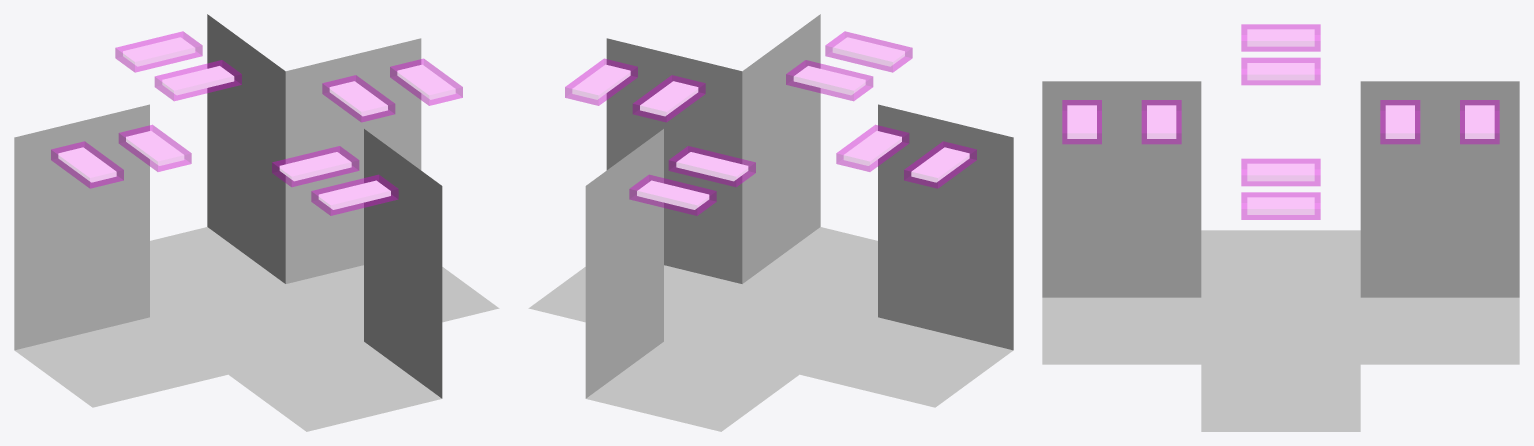
Rendered from maze_plus.glb.
3 renders of one model, left to right at view 1: azimuth 30°, elevation 25°; view 2: azimuth 150°, elevation 25°; view 3: azimuth 270°, elevation 25°, orthographic.
Parts seen in each view (by area): view 1: Plane.009, Plane.006, Plane.003, Plane.012, Plane.004, Plane.007, Plane.010, Plane.001, Plane.013, light.003, light.001, light.002 (+1 smaller); view 2: Plane.011, Plane.002, Plane.012, Plane.003, Plane.001, Plane.004, Plane.010, Plane.007, Plane.013, light.001, light.003, light.002 (+1 smaller); view 3: Plane.005, Plane.008, Plane.004, Plane.010, Plane.013, Plane.001, Plane.007, light.002, light.004, light.001, light.003.
Part boxes in pixels (box(x1,y1,x2,y2)): Plane.009: box(14, 104, 149, 350); Plane.006: box(285, 38, 421, 283); Plane.003: box(364, 129, 442, 398); Plane.012: box(207, 14, 285, 283); Plane.004: box(150, 284, 363, 374); Plane.007: box(229, 341, 441, 431); Plane.010: box(14, 317, 227, 407); Plane.001: box(150, 227, 285, 317); Plane.013: box(286, 265, 499, 341); light.003: box(115, 31, 241, 100); light.001: box(272, 146, 398, 215); light.002: box(322, 58, 462, 122); Plane.011: box(878, 104, 1013, 350); Plane.002: box(606, 38, 742, 283); Plane.012: box(585, 129, 663, 398); Plane.003: box(742, 14, 820, 283); Plane.001: box(586, 341, 798, 431); Plane.004: box(664, 284, 877, 374); Plane.010: box(800, 317, 1013, 407); Plane.007: box(742, 227, 877, 317); Plane.013: box(528, 265, 741, 341); light.001: box(786, 31, 912, 100); light.003: box(629, 146, 755, 215); light.002: box(565, 58, 705, 122); Plane.005: box(1042, 81, 1201, 297); Plane.008: box(1360, 81, 1519, 297); Plane.004: box(1201, 297, 1360, 364); Plane.010: box(1201, 230, 1360, 297); Plane.013: box(1201, 364, 1360, 431); Plane.001: box(1360, 297, 1519, 364); Plane.007: box(1042, 297, 1201, 364); light.002: box(1241, 159, 1320, 219); light.004: box(1241, 24, 1320, 84); light.001: box(1062, 100, 1181, 143); light.003: box(1380, 100, 1499, 143).
Size of the model in its own units: 12 by 6 by 12.
